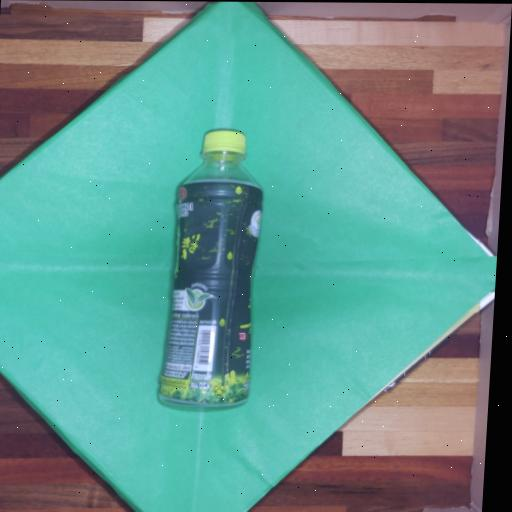bottle: (155, 128, 265, 410)
